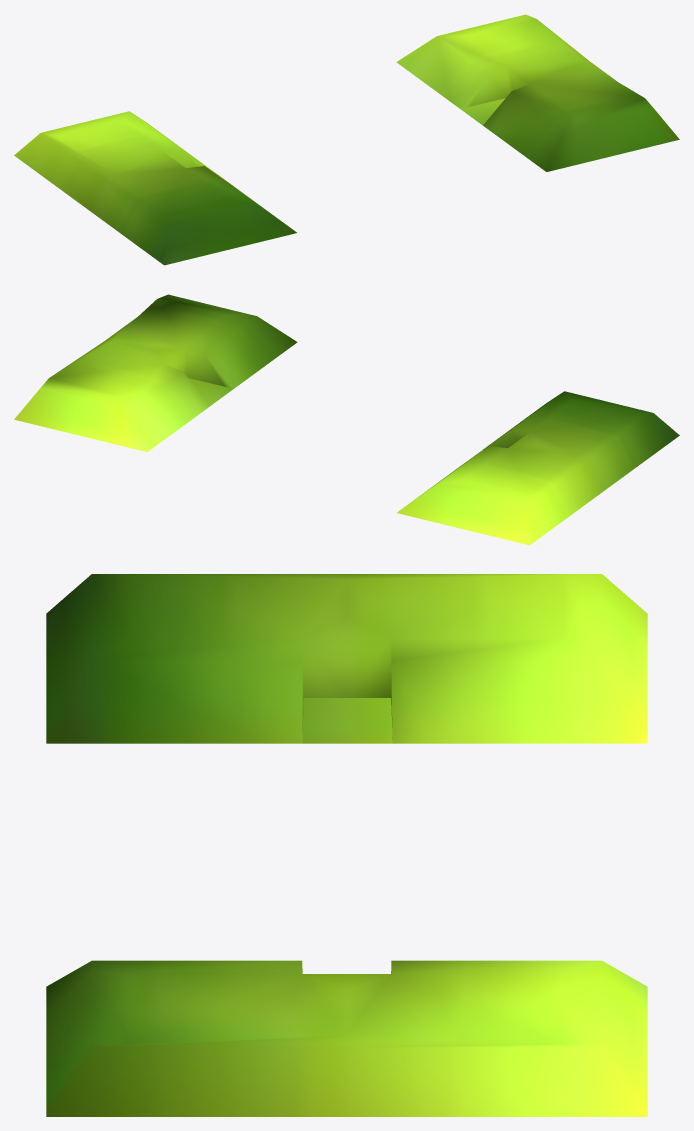
File: WoodBridgeGrassLandOnly.glb
3 views of the same model, one above another, from view 1: azimuth 30°, elevation 25°; view 2: azimuth 150°, elevation 25°; view 3: azimuth 270°, elevation 25° (orthographic). The views are drawn at different scales.
Visible parts, largest first — view 1: WoodBridgeGrassLandOnly; view 2: WoodBridgeGrassLandOnly; view 3: WoodBridgeGrassLandOnly.
Part boxes in pixels (bbox=[...]): WoodBridgeGrassLandOnly: bbox=[14, 14, 679, 265]; WoodBridgeGrassLandOnly: bbox=[14, 294, 679, 545]; WoodBridgeGrassLandOnly: bbox=[46, 574, 647, 1116].
Size of the model in its own units: 26.3 by 1.44 by 13.28.
Materials: 1 (1 with a texture image).
